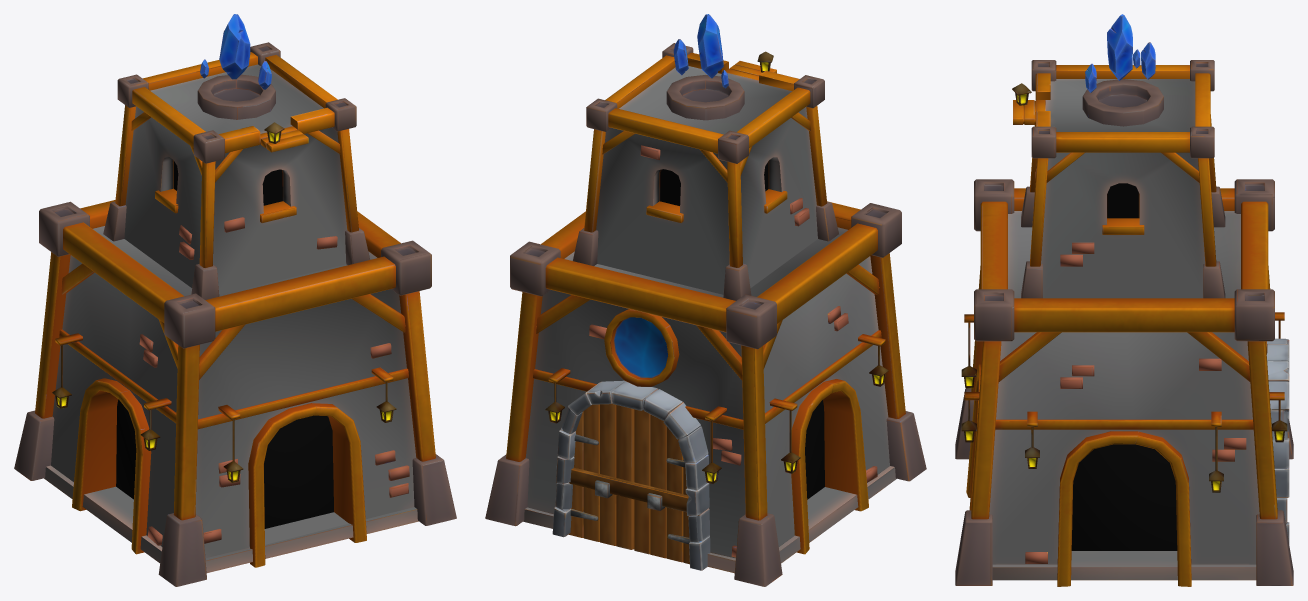
3 renders of one model, left to right at view 1: azimuth 30°, elevation 25°; view 2: azimuth 150°, elevation 25°; view 3: azimuth 270°, elevation 25°, orthographic. The views are drawn at different scales.
Visible parts, largest first — view 1: Cube.006_Baked; view 2: Cube.006_Baked; view 3: Cube.006_Baked.
Part boxes in pixels (<box>): Cube.006_Baked: <box>14,14,456,586</box>; Cube.006_Baked: <box>485,14,926,586</box>; Cube.006_Baked: <box>955,14,1293,586</box>.
Bounding box in the file's own units: 300 × 494 × 300.
Materials: 1 (1 with a texture image).
